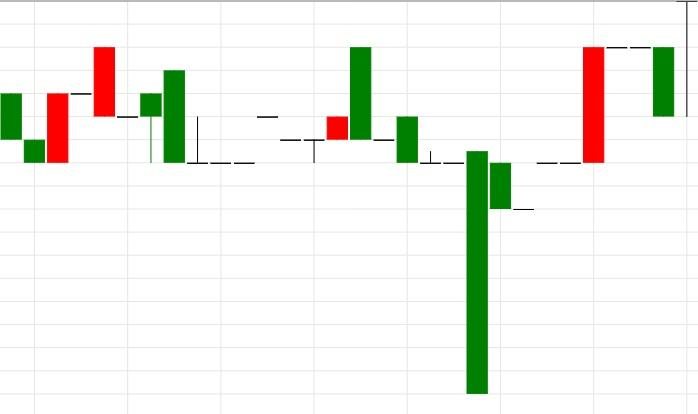bearish_engulfing_fall: (279, 47, 372, 163)
